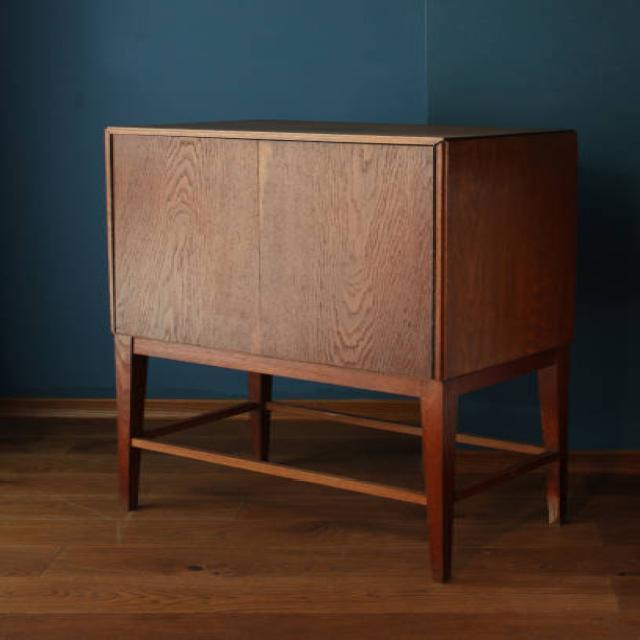table: (103, 118, 579, 582)
